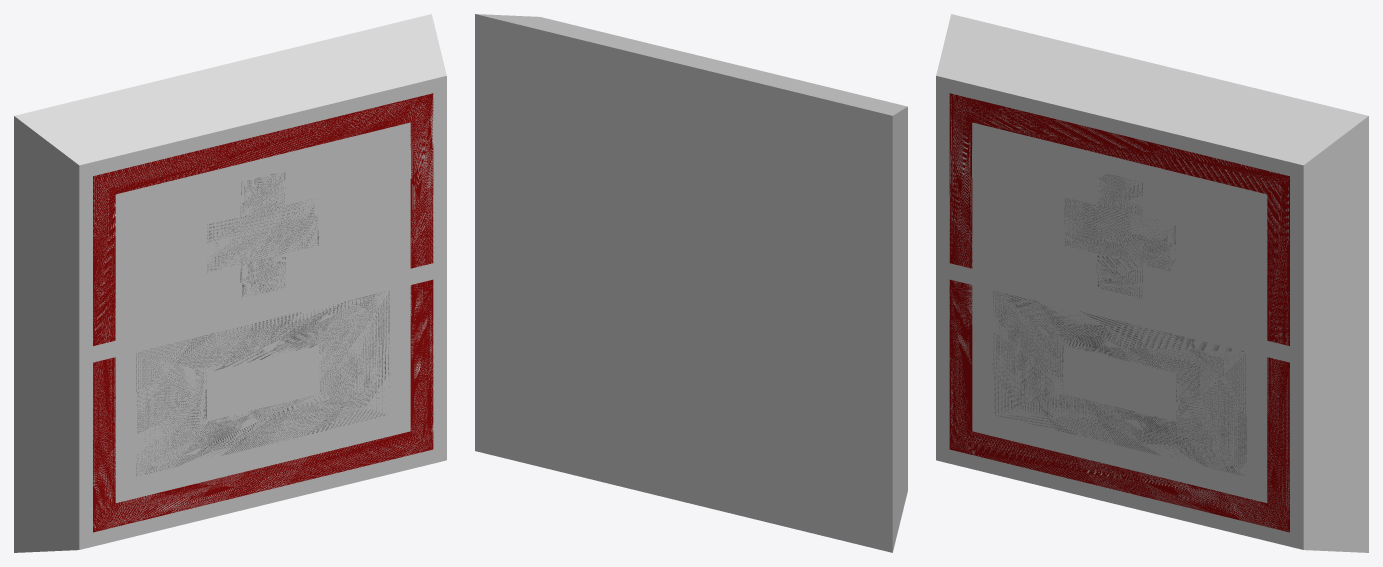
File: scifi_semiotic_s_astronic_systems.fbx
The picture shows the model from 3 angles, left to right: view 1: azimuth 30°, elevation 25°; view 2: azimuth 150°, elevation 25°; view 3: azimuth 330°, elevation 25°; orthographic projection.
Parts seen in each view (by area): view 1: Model; view 2: Model; view 3: Model.
Boxes of the visible parts, <box> form: Model: <box>14,14,446,552</box>; Model: <box>475,14,907,552</box>; Model: <box>936,14,1368,552</box>.
Bounding box in the file's own units: 57.94 × 57.94 × 9.66.
